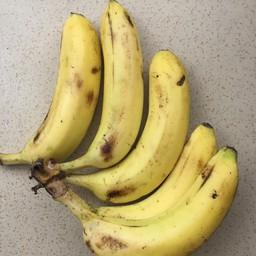Banana Ripe: (56, 33, 190, 213), (38, 170, 253, 256), (12, 2, 99, 184), (71, 126, 223, 229), (61, 2, 140, 191)
